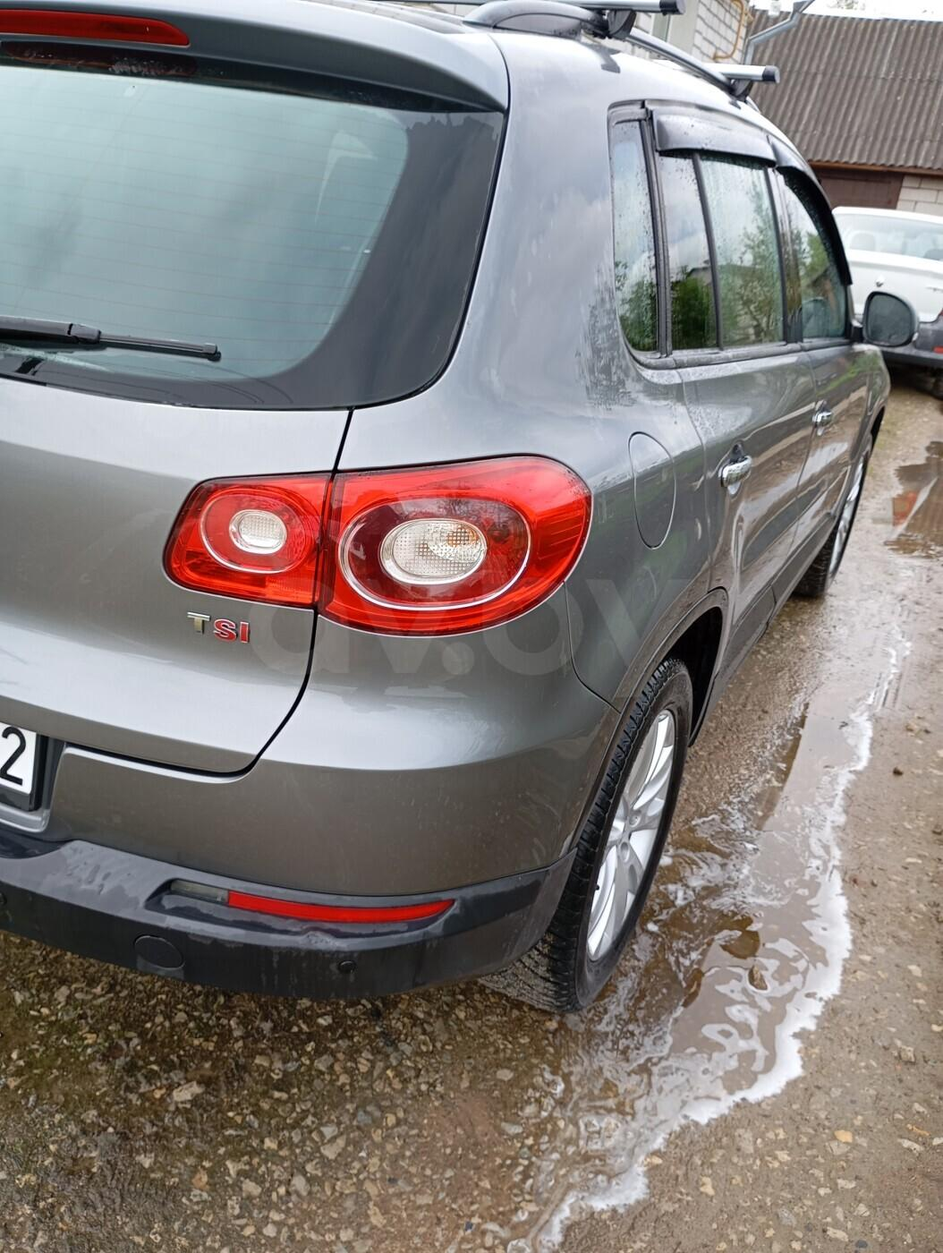Tiguan_2007-2011: (0, 0, 900, 1024)
